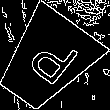P_SW: (15, 30, 78, 92)
